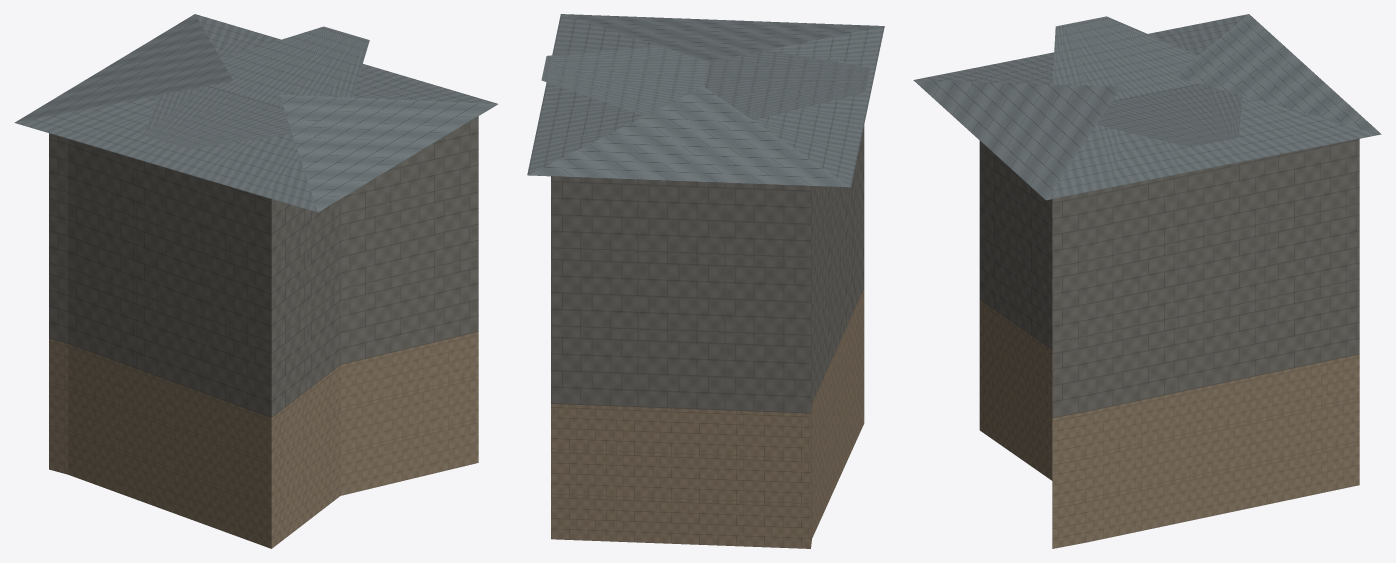
Rendered from bld_c-11_36_468.gltf.
The picture shows the model from 3 angles, left to right: view 1: azimuth 30°, elevation 25°; view 2: azimuth 150°, elevation 25°; view 3: azimuth 270°, elevation 25°; orthographic projection. The views are drawn at different scales.
Parts seen in each view (by area): view 1: bld_c-11_36_468; view 2: bld_c-11_36_468; view 3: bld_c-11_36_468.
Part boxes in pixels (x1,y1,x2,y2): bld_c-11_36_468: [14, 14, 497, 548]; bld_c-11_36_468: [527, 14, 884, 548]; bld_c-11_36_468: [913, 14, 1381, 548].
Bounding box in the file's own units: 15.58 × 14.9 × 16.55.
3 materials, 3 textured.
